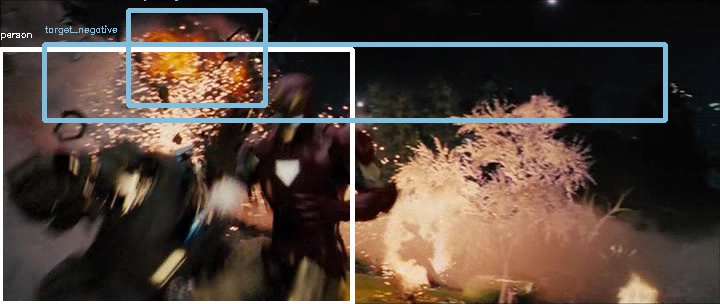person: (263, 79, 309, 136), (262, 79, 308, 136), (264, 79, 310, 136), (263, 78, 309, 135), (263, 80, 309, 137)
target_negative: (271, 73, 688, 162), (499, 6, 565, 265), (603, 38, 719, 160), (539, 177, 566, 259), (341, 220, 350, 293)
